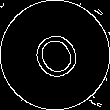O_SE: (23, 22, 87, 88)
